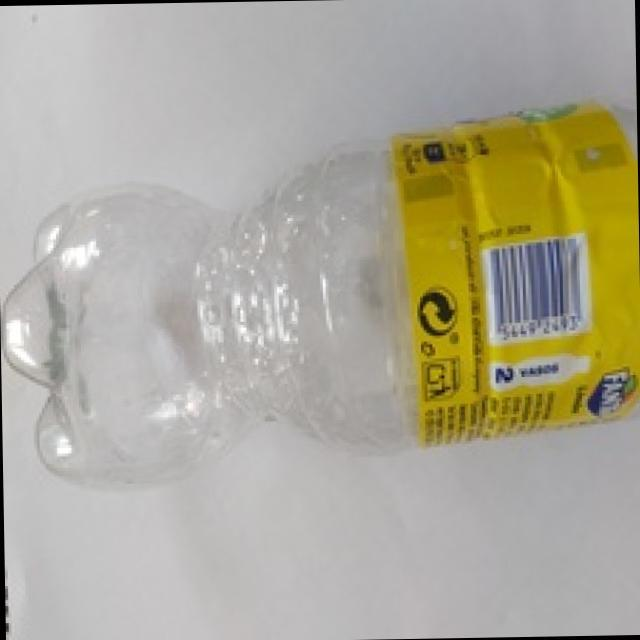good: (13, 92, 640, 491)
